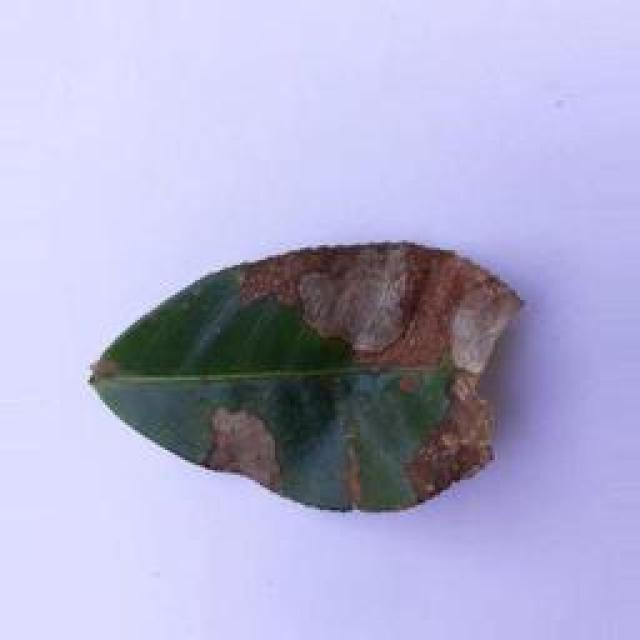Gray Blight: (90, 238, 526, 512)
